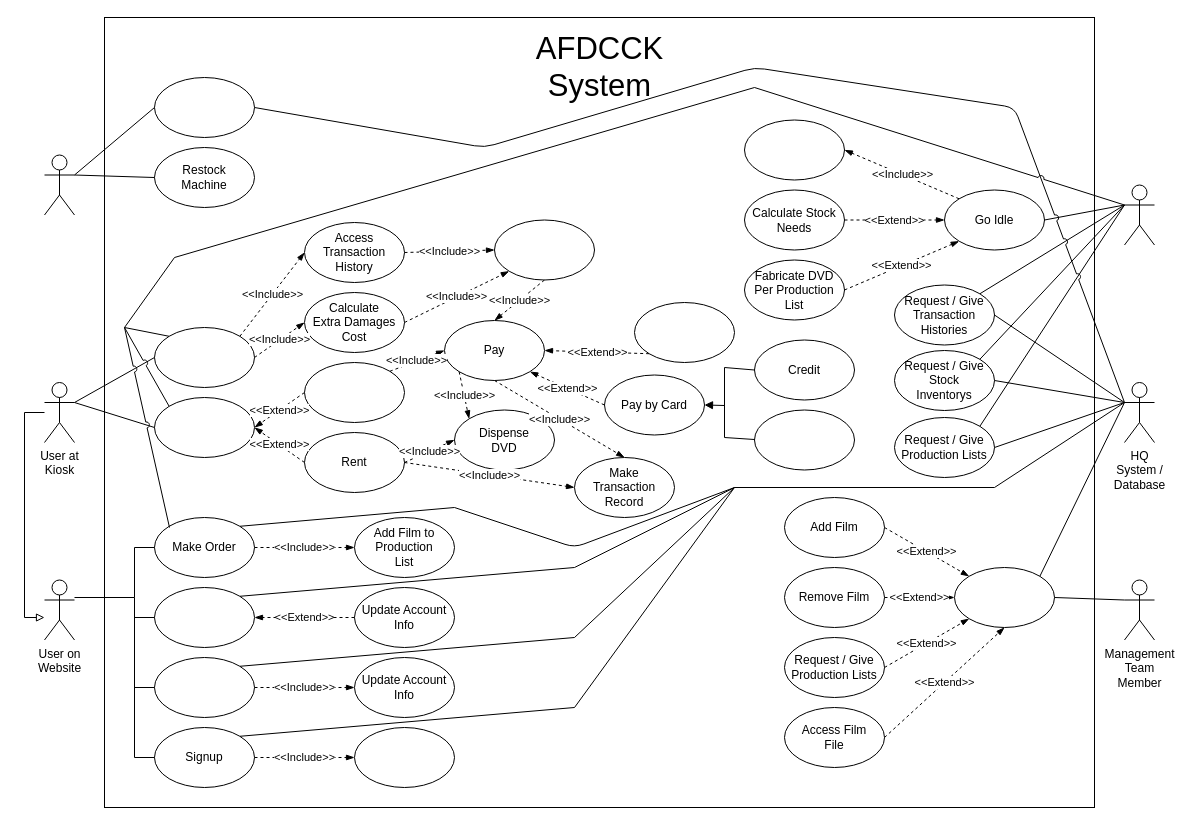
This 1192x825 diagram has some shape labels left out. Each missing label, with the box of its shape:
Access Film Database: (954, 566, 1054, 628)
AFDCCK Kiosk: (1124, 184, 1154, 245)
Browse Current Stock: (154, 396, 254, 458)
Buy: (304, 362, 404, 422)
Calculate Fee: (494, 219, 594, 280)
Check Optimal Overstock Use: (154, 76, 254, 138)
Display Trailer: (744, 119, 844, 180)
Login: (154, 656, 254, 718)
Maintenance Team Member: (44, 154, 74, 215)
Pay by Cash: (634, 302, 734, 362)
Register Account to System: (354, 726, 454, 788)
Return DVD: (154, 326, 254, 388)
Savings: (754, 409, 854, 470)
View Account Info: (154, 586, 254, 648)
